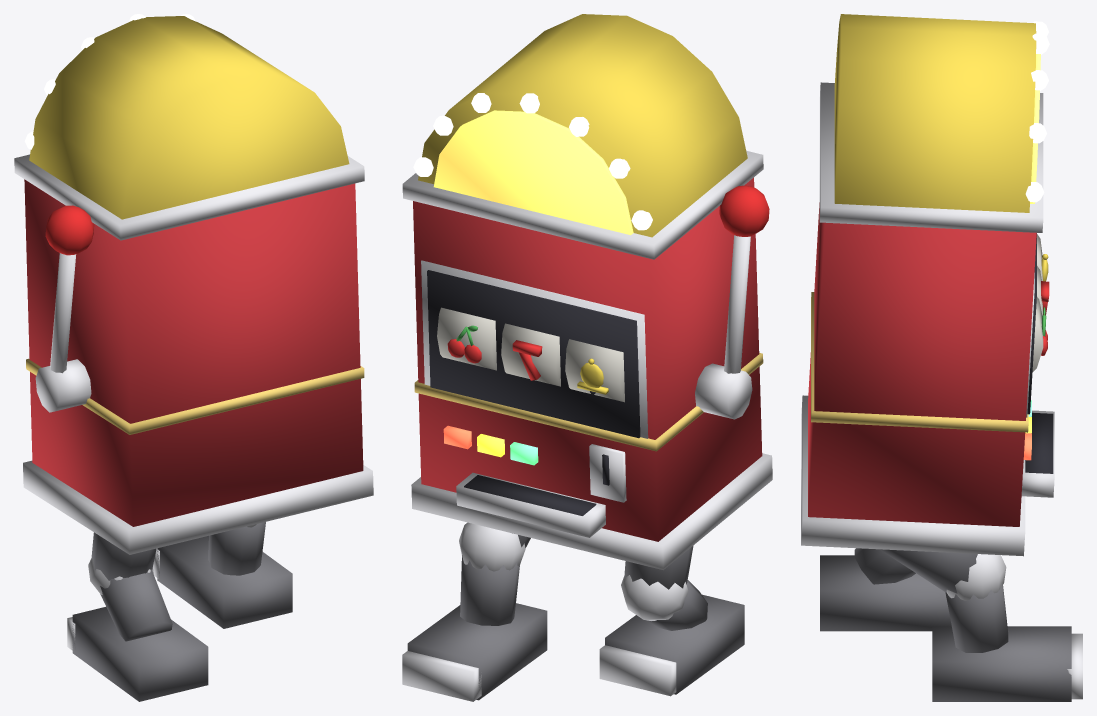
File: alien_tank.glb
3 views of the same model, side by side, from view 1: azimuth 30°, elevation 25°; view 2: azimuth 150°, elevation 25°; view 3: azimuth 270°, elevation 25° (orthographic). The views are drawn at different scales.
Parts seen in each view (by area): view 1: alien_tank; view 2: alien_tank; view 3: alien_tank.
Part boxes in pixels (x1,y1,x2,y2): alien_tank: [14, 14, 373, 701]; alien_tank: [402, 14, 772, 701]; alien_tank: [801, 14, 1082, 701].
Size of the model in its own units: 1.04 by 2.1 by 0.8623.
